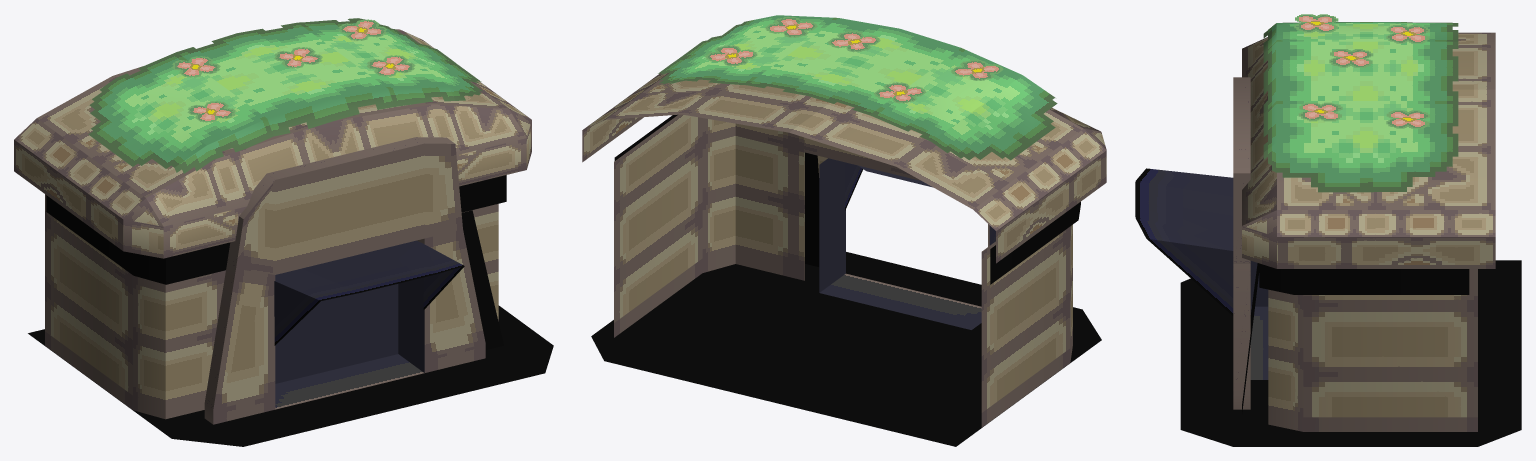
File: ruina.fbx
The picture shows the model from 3 angles, left to right: view 1: azimuth 30°, elevation 25°; view 2: azimuth 150°, elevation 25°; view 3: azimuth 270°, elevation 25°; orthographic projection.
Parts seen in each view (by area): view 1: Ruina; view 2: Ruina; view 3: Ruina.
Boxes of the visible parts, <box> form: Ruina: <box>14,18,553,446</box>; Ruina: <box>582,15,1106,446</box>; Ruina: <box>1135,14,1521,446</box>.
Bounding box in the file's own units: 10800 × 7390 × 8842.
Materials: 5 (5 with a texture image).
